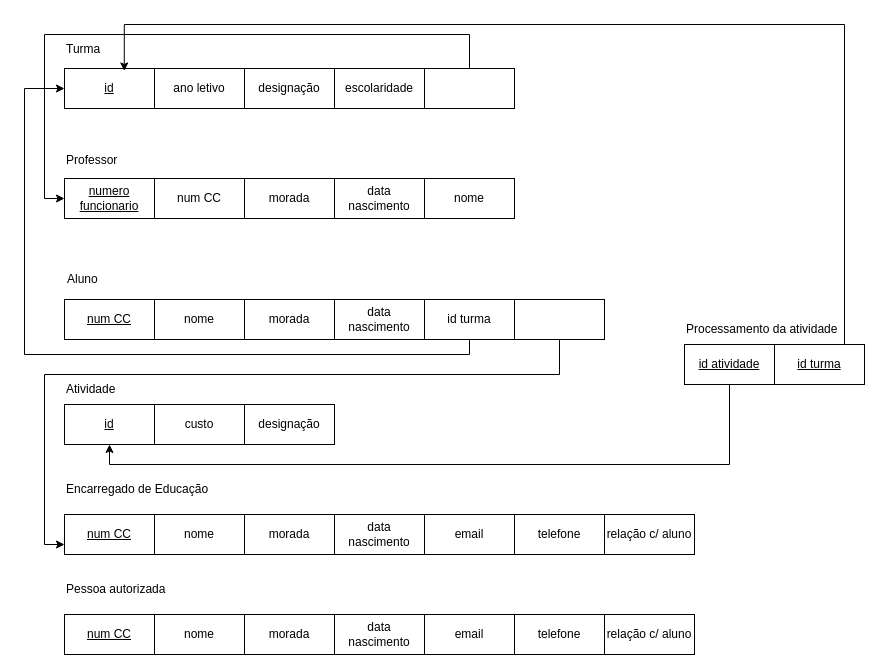
Image size: 882x672. Some labels were removed from this diagram. Each missing label, with the centre of its shape:
"num CC do EE" goes at (x=559, y=319).
"num funcionario professor" goes at (x=469, y=88).
